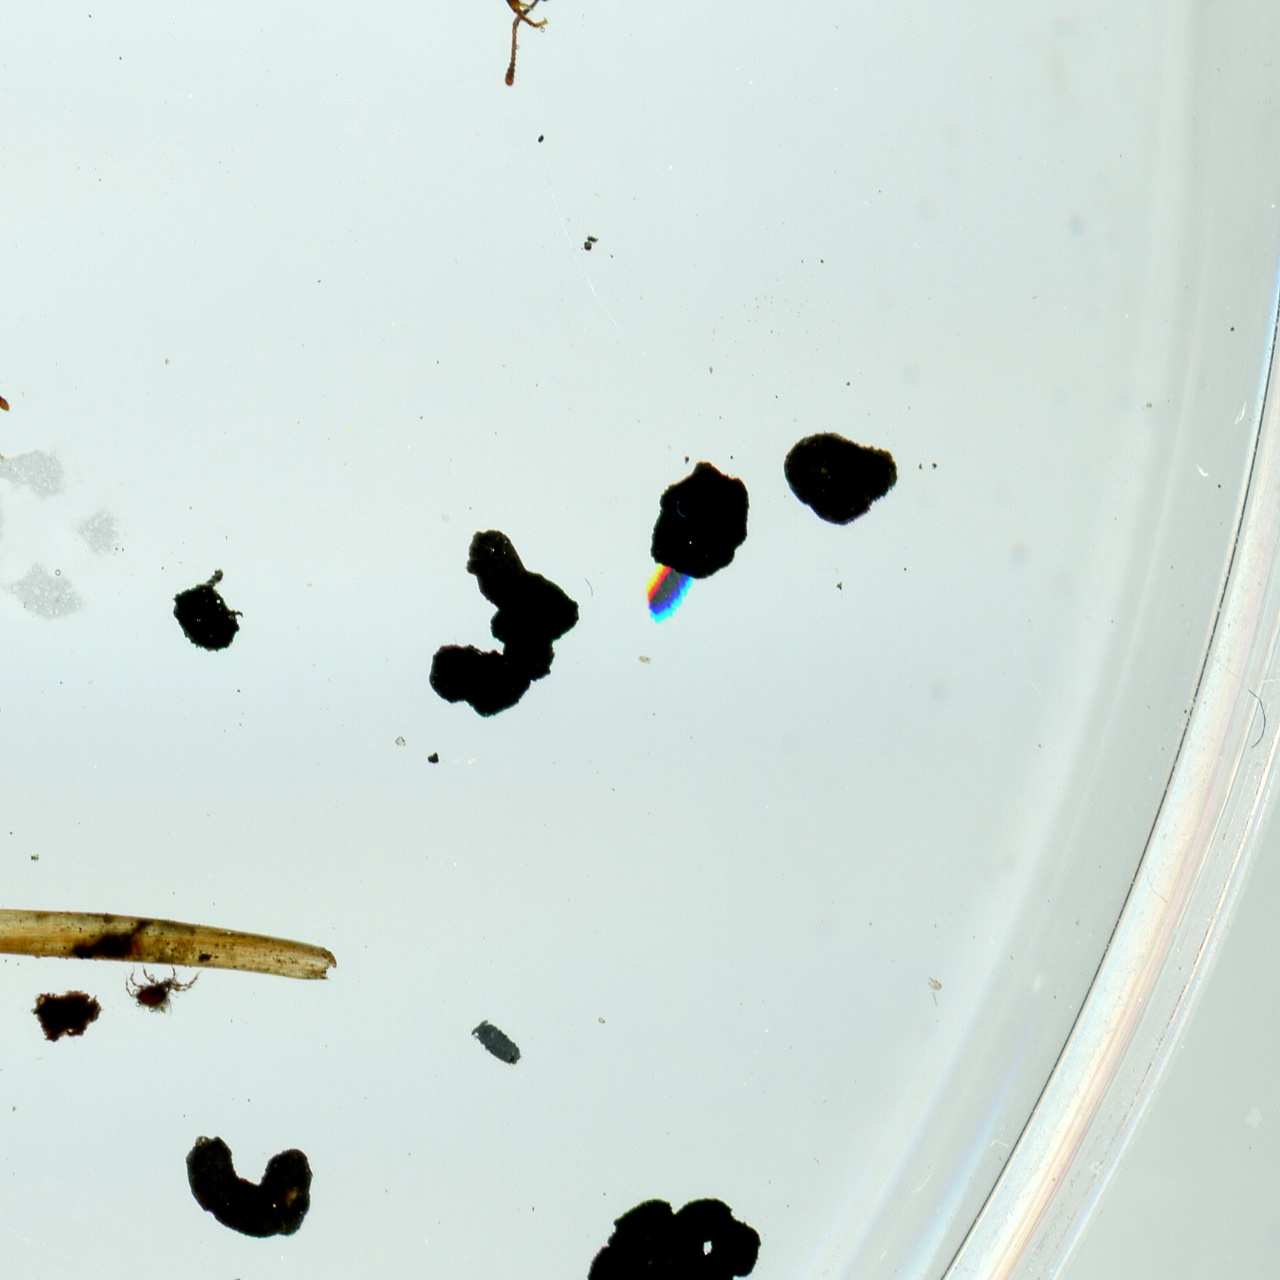arthropod: (333, 0, 633, 95), (627, 556, 703, 638), (113, 962, 204, 1023), (461, 1008, 536, 1082)
